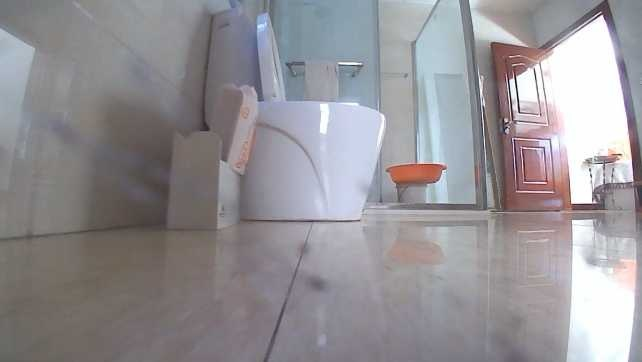door_anno: (485, 36, 576, 214)
toilet: (195, 6, 387, 224)
